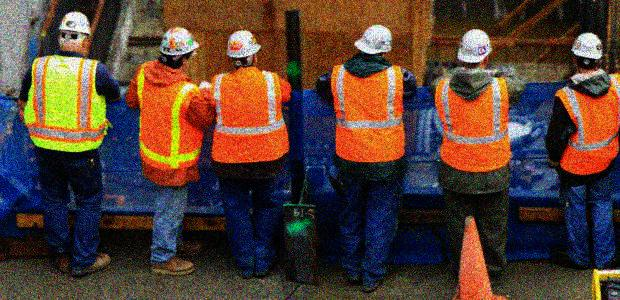helmet: (158, 25, 200, 69), (57, 10, 94, 59), (226, 28, 265, 69), (354, 20, 394, 59), (456, 27, 493, 69), (570, 30, 604, 73)
